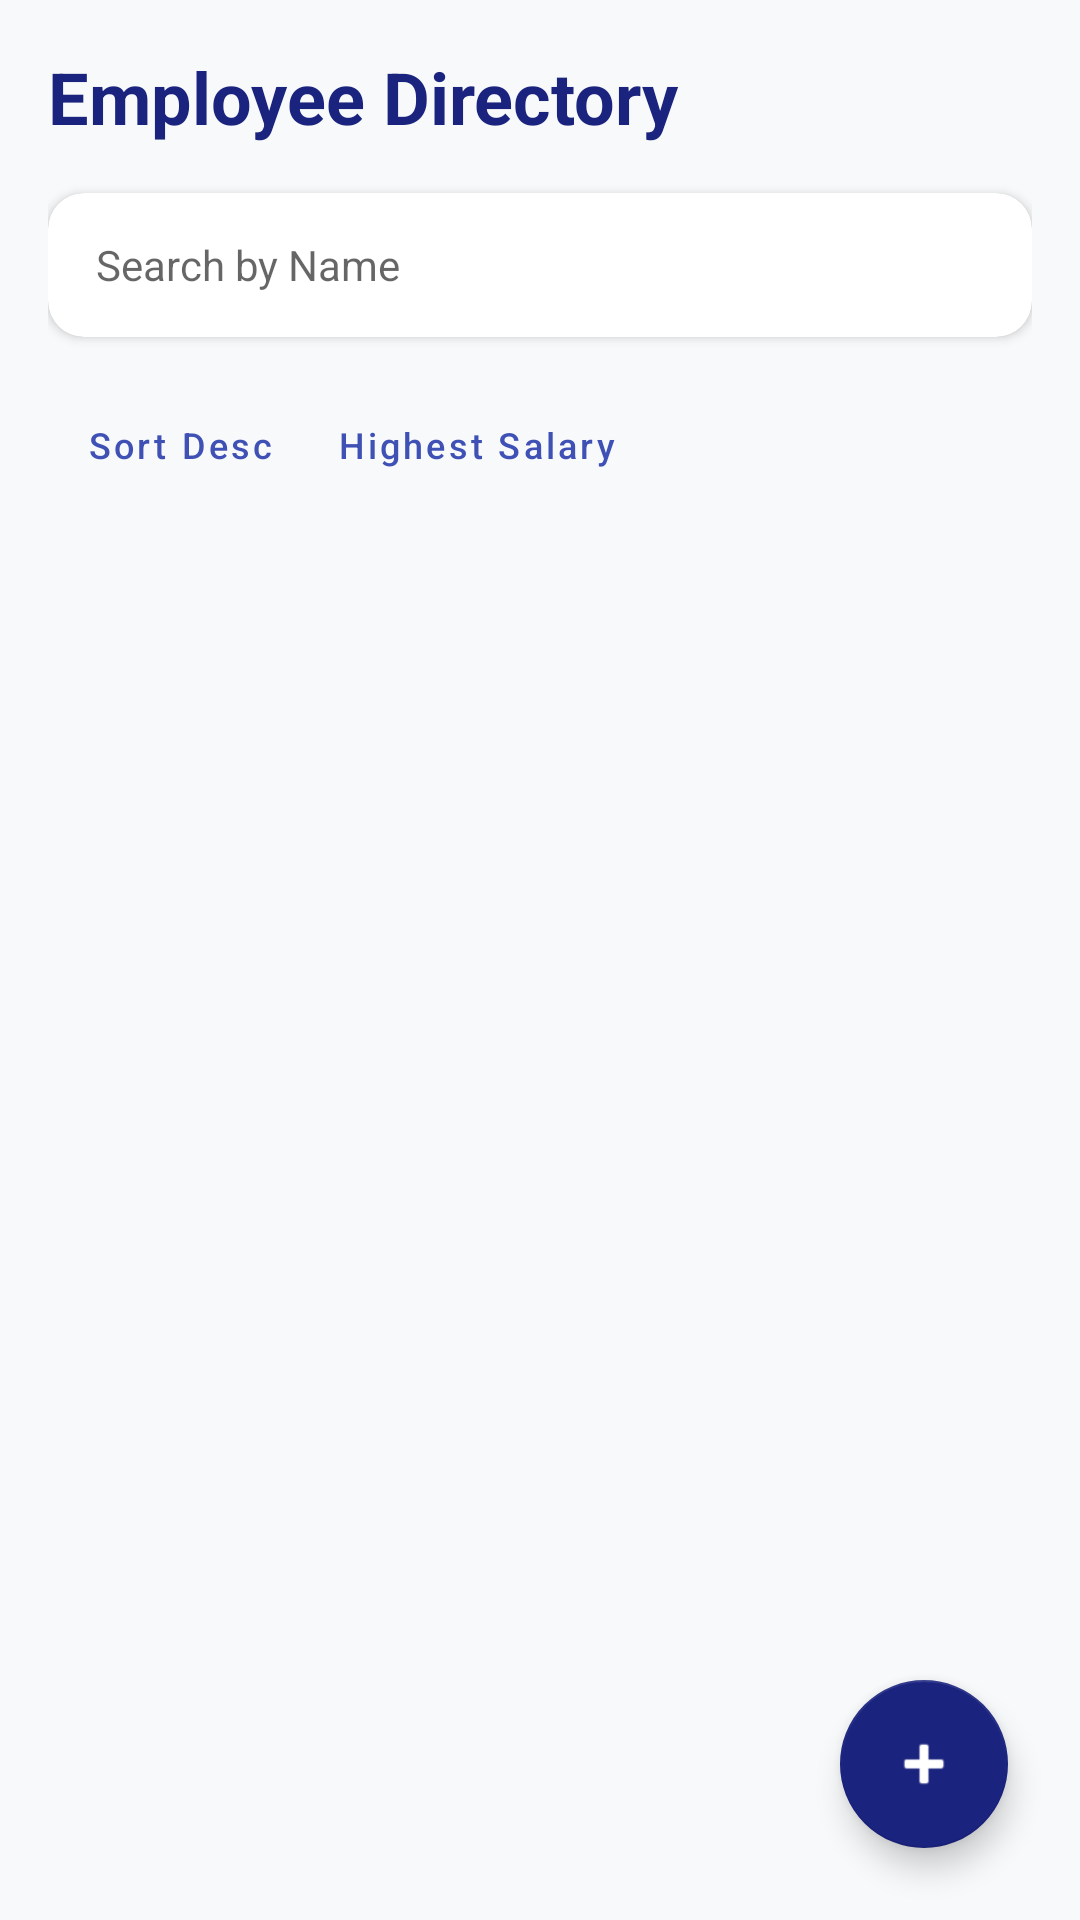

Icon bounding boxes for this 1080w x 1920h phone screenshot, format (x1, y1, x2, y2):
Add Employee: (840, 1680, 1008, 1848)
